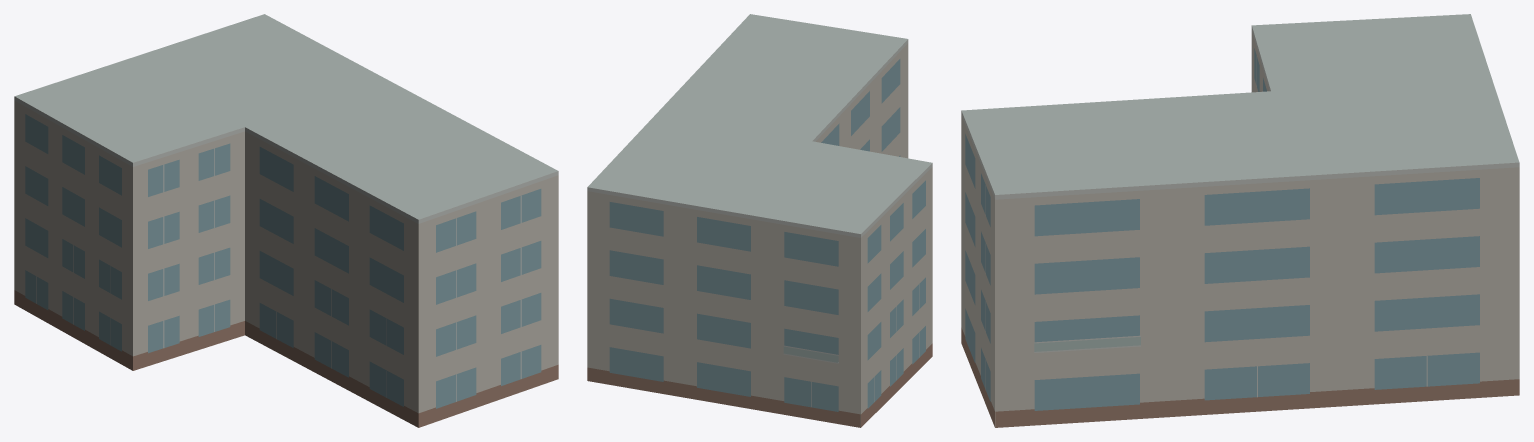
Rendered from survey-upis-32703741.glb.
The picture shows the model from 3 angles, left to right: view 1: azimuth 30°, elevation 25°; view 2: azimuth 150°, elevation 25°; view 3: azimuth 270°, elevation 25°; orthographic projection. The views are drawn at different scales.
Parts seen in each view (by area): view 1: survey-upis-32703741.tmp; view 2: survey-upis-32703741.tmp; view 3: survey-upis-32703741.tmp.
Boxes of the visible parts, left/top/right/bottom form: survey-upis-32703741.tmp: left=14, top=14, right=558, bottom=427; survey-upis-32703741.tmp: left=587, top=14, right=932, bottom=427; survey-upis-32703741.tmp: left=961, top=14, right=1519, bottom=427.
Bounding box in the file's own units: 20.35 × 12.2 × 26.51.
